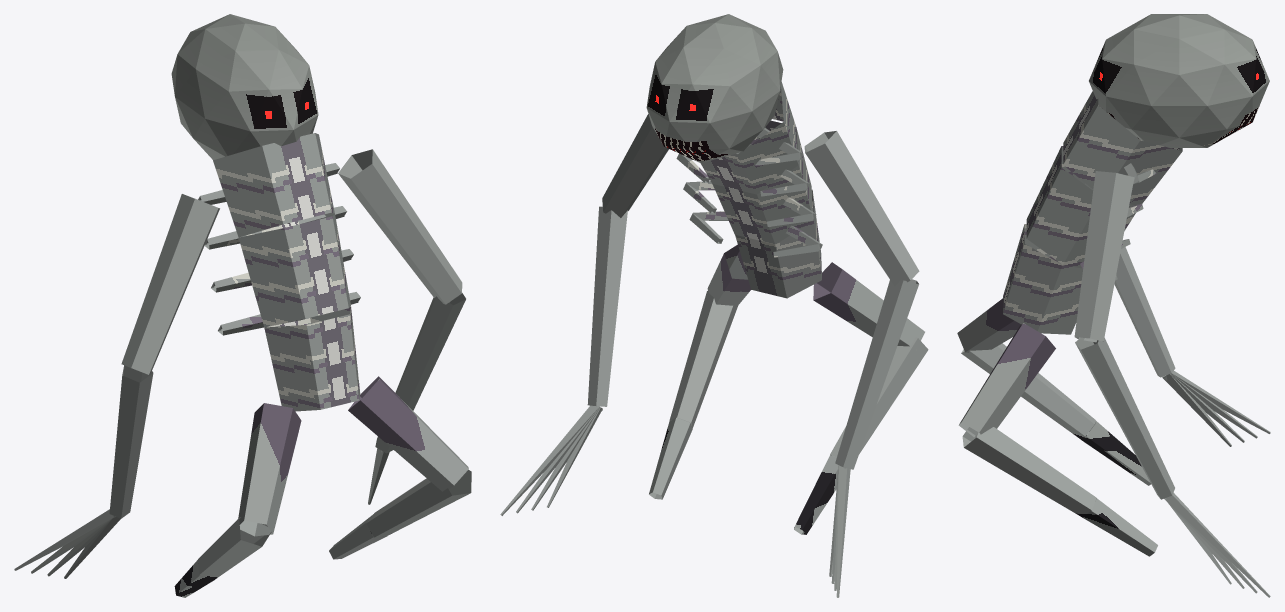
File: pale_lurker.glb
3 views of the same model, side by side, from view 1: azimuth 30°, elevation 25°; view 2: azimuth 150°, elevation 25°; view 3: azimuth 270°, elevation 25° (orthographic). The views are drawn at different scales.
Parts seen in each view (by area): view 1: PaleLurker; view 2: PaleLurker; view 3: PaleLurker.
Part boxes in pixels (x1,y1,x2,y2): PaleLurker: (14,14,471,597); PaleLurker: (500,14,928,597); PaleLurker: (957,14,1270,597).
Size of the model in its own units: 1.51 by 2.15 by 1.21.
Materials: 1 (1 with a texture image).
